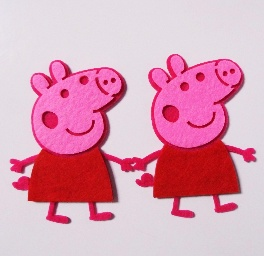Peppa: (9, 60, 135, 223), (138, 54, 258, 219)
